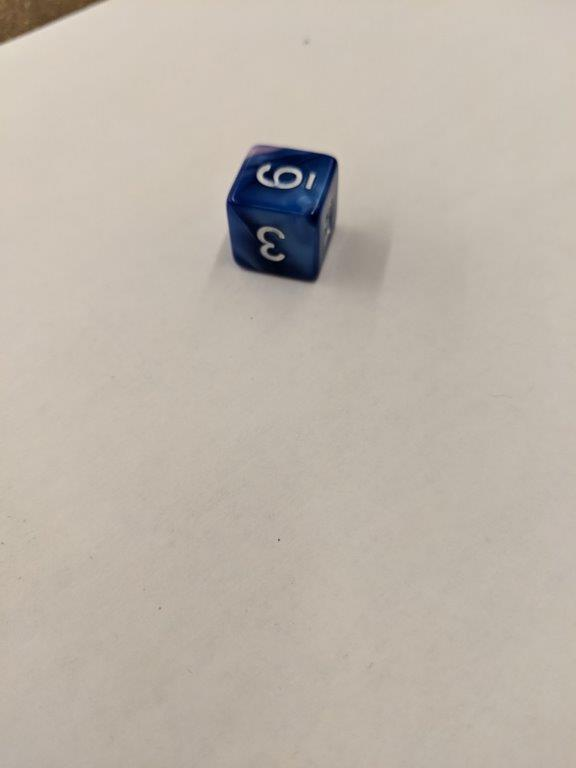d6-6: (226, 142, 338, 286)
